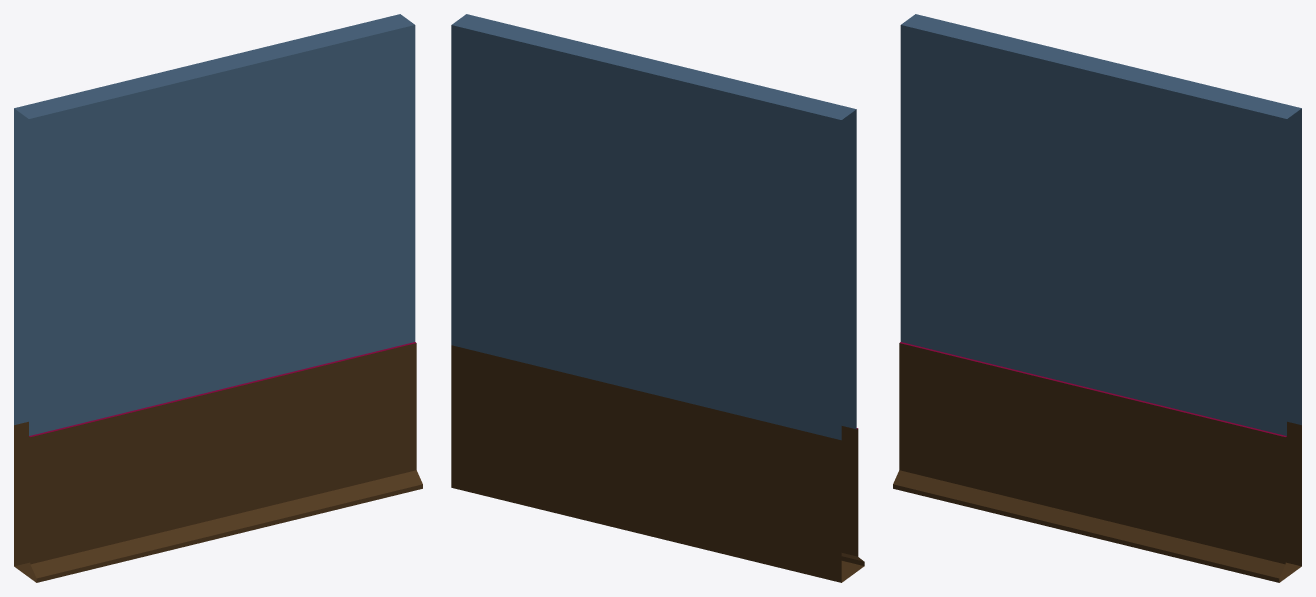
Rendered from Wall_1.fbx.
3 views of the same model, side by side, from view 1: azimuth 30°, elevation 25°; view 2: azimuth 150°, elevation 25°; view 3: azimuth 330°, elevation 25° (orthographic).
Parts seen in each view (by area): view 1: pCube1; view 2: pCube1; view 3: pCube1.
Boxes of the visible parts, box(x1,y1,x2,y2) form: pCube1: box(14, 14, 422, 582); pCube1: box(451, 14, 864, 582); pCube1: box(893, 14, 1301, 582).
Size of the model in its own units: 15 by 17 by 1.52.
